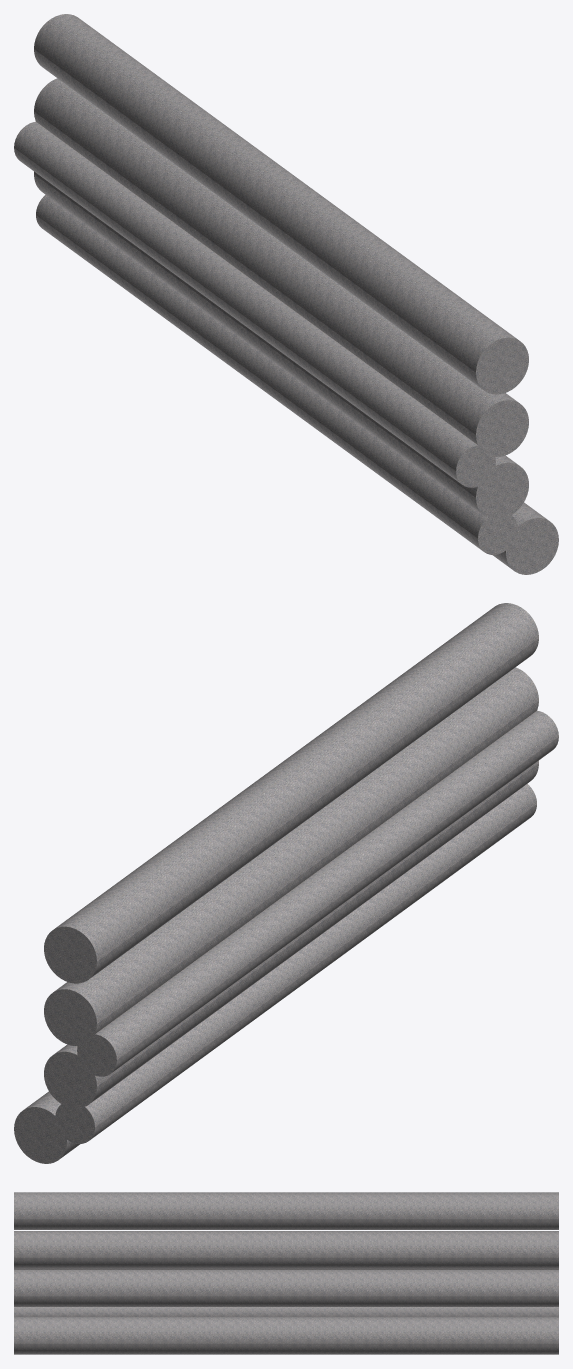
The picture shows the model from 3 angles, top to bottom: view 1: azimuth 30°, elevation 25°; view 2: azimuth 150°, elevation 25°; view 3: azimuth 270°, elevation 25°; orthographic projection. The views are drawn at different scales.
Visible parts, largest first — view 1: 0_1_3_3_1_0_3_2; view 2: 0_1_3_3_1_0_3_2; view 3: 0_1_3_3_1_0_3_2.
Boxes of the visible parts, x1,y1,x2,y2 form: 0_1_3_3_1_0_3_2: [14, 14, 558, 574]; 0_1_3_3_1_0_3_2: [14, 603, 558, 1163]; 0_1_3_3_1_0_3_2: [14, 1192, 558, 1354].
Bounding box in the file's own units: 1.55 × 3.5 × 11.53.
6 materials, 6 textured.
